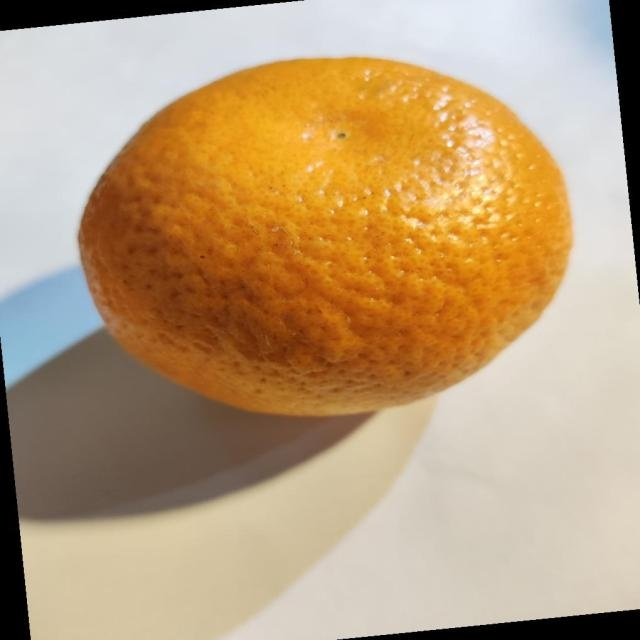agrume: (76, 54, 573, 418)
